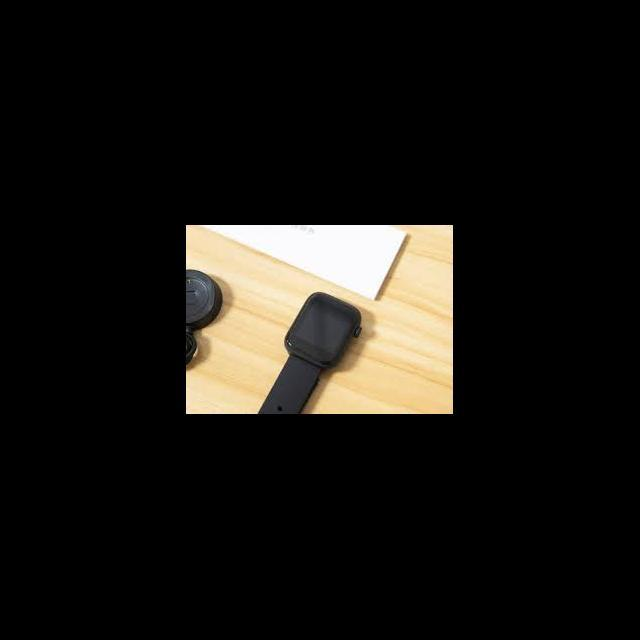watch: (248, 280, 382, 466)
